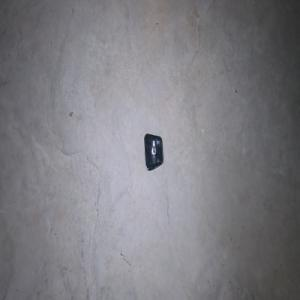LuggagePart: (143, 132, 163, 171)
